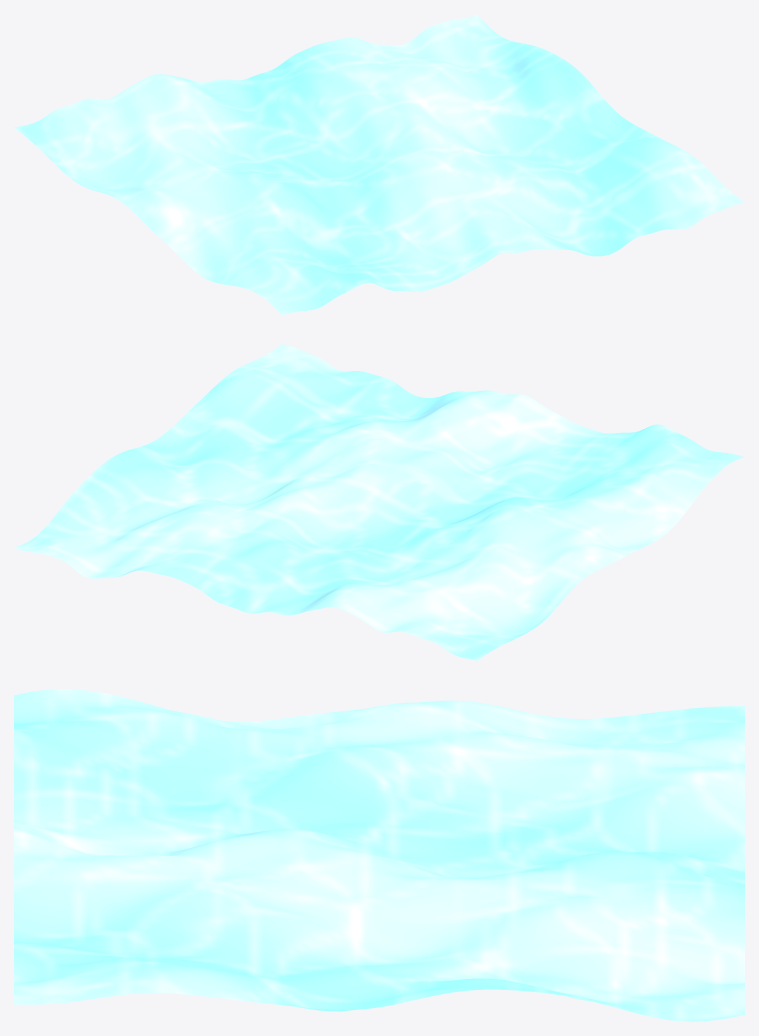
File: pastel-looping-animated-water.glb
The picture shows the model from 3 angles, top to bottom: view 1: azimuth 30°, elevation 25°; view 2: azimuth 150°, elevation 25°; view 3: azimuth 270°, elevation 25°; orthographic projection. The views are drawn at different scales.
Parts seen in each view (by area): view 1: Pastel looping animated water surface under 1MB; view 2: Pastel looping animated water surface under 1MB; view 3: Pastel looping animated water surface under 1MB.
Part boxes in pixels (box(x1,y1,x2,y2)): Pastel looping animated water surface under 1MB: box(14, 14, 744, 315); Pastel looping animated water surface under 1MB: box(14, 344, 744, 660); Pastel looping animated water surface under 1MB: box(14, 689, 744, 1021).
Bounding box in the file's own units: 12 × 0.9104 × 12.
